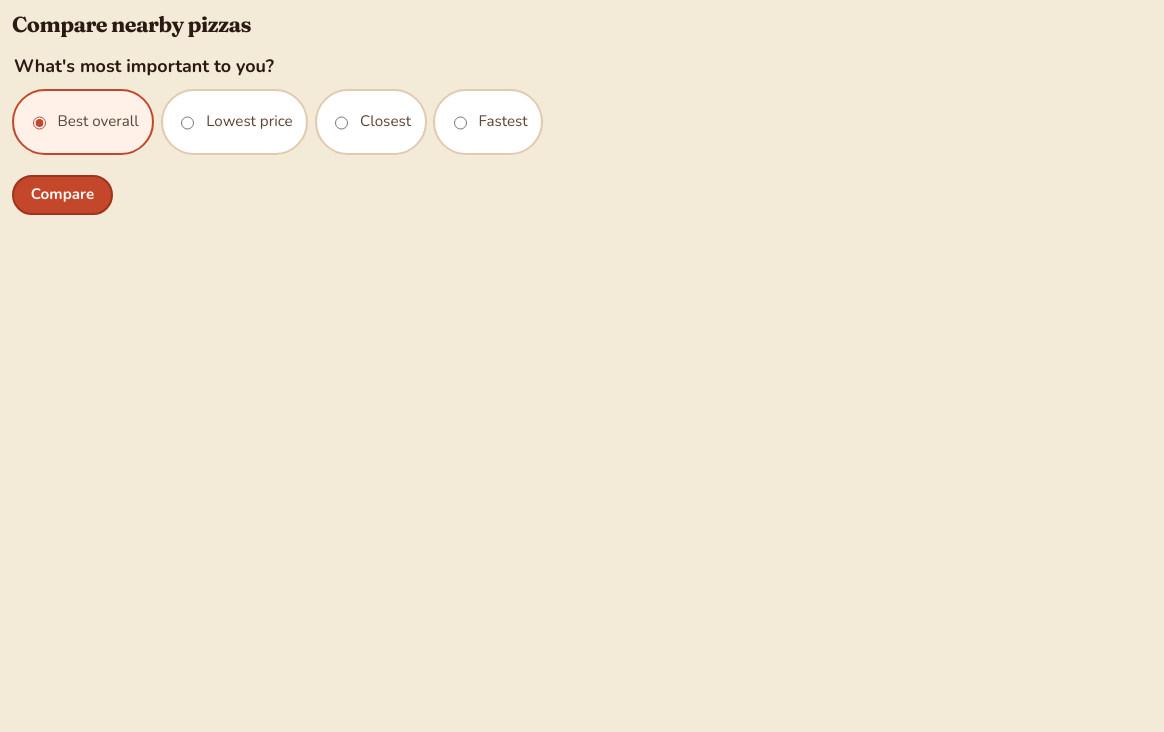
Test: PizzaComparisonPanel › warns when some nearby pizzerias could not be checked
This screenshot has width=1164, height=732.
Click the button "Compare" at (62, 195), box [12,175,113,214]
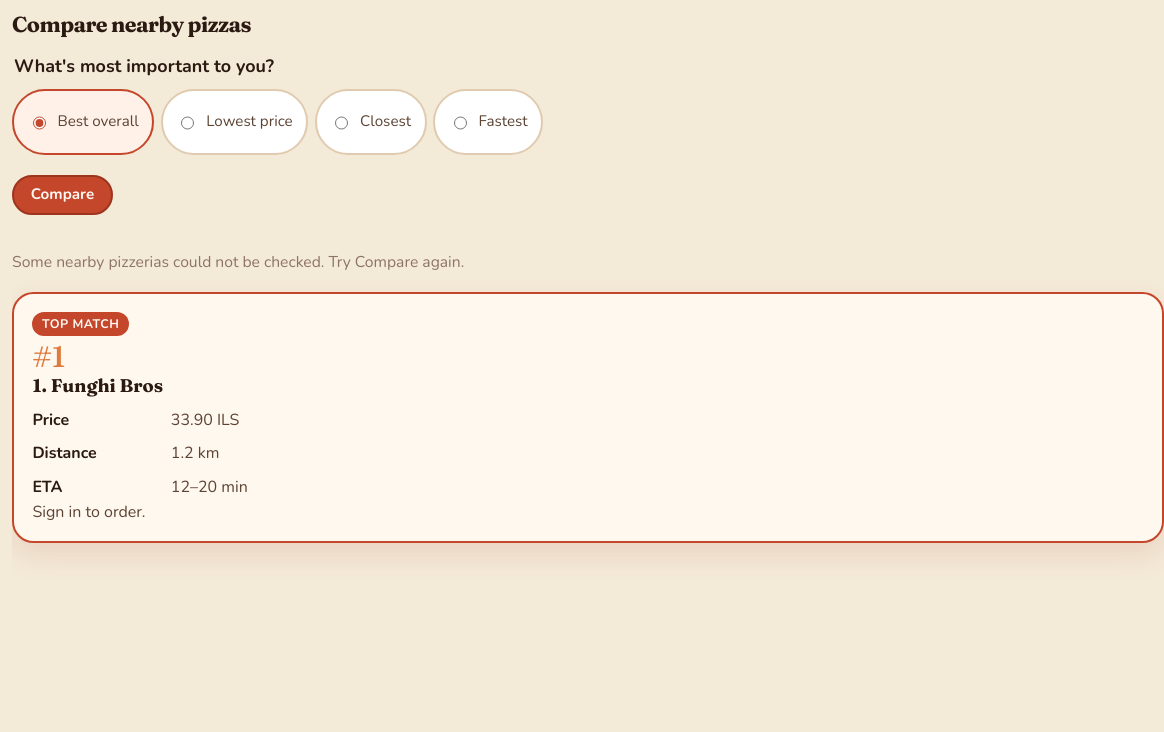
Check: the text "Some nearby pizzerias could not be checked. Try Compare again." is shown, box [12,252,464,274]
Check: the heading "1. Funghi Bros" is shown, box [32,374,163,396]
Check: the text "Top match" is shown, box [32,312,129,336]
